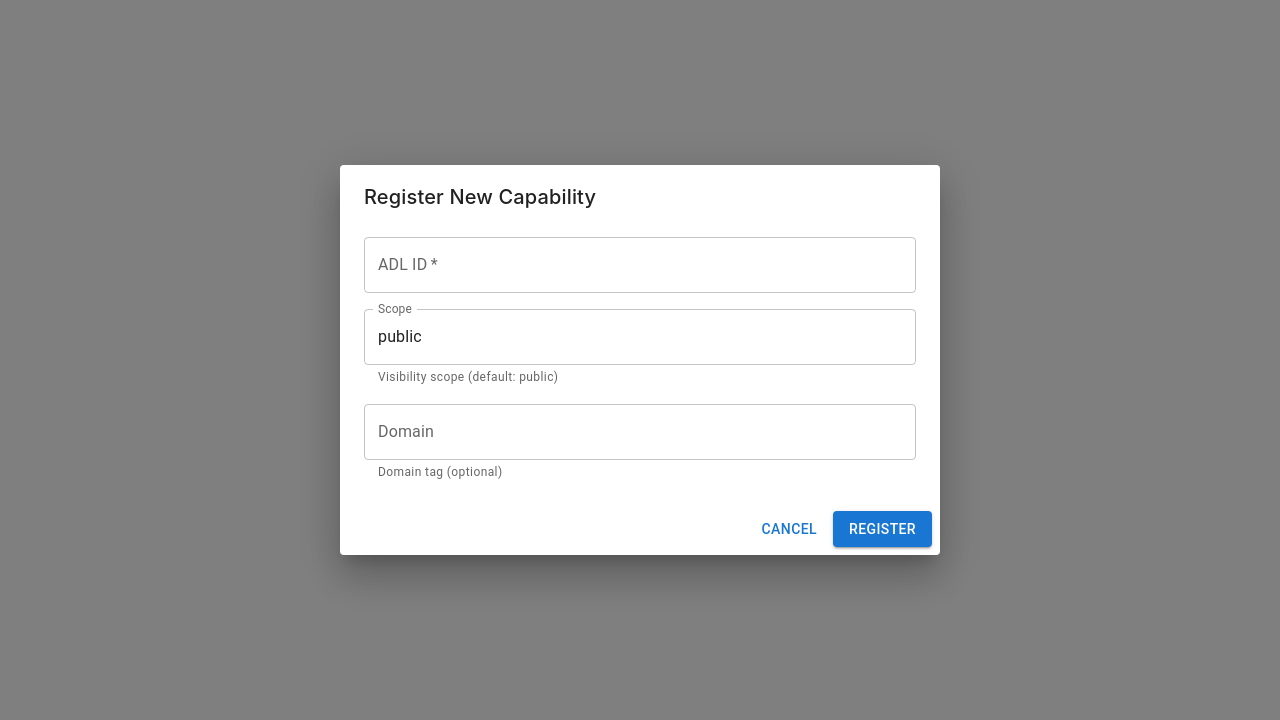
RegisterDialog › handles API error gracefully
Type "test-capability" into the field labelled "ADL ID *" at (640, 265), box [364,237,916,293]
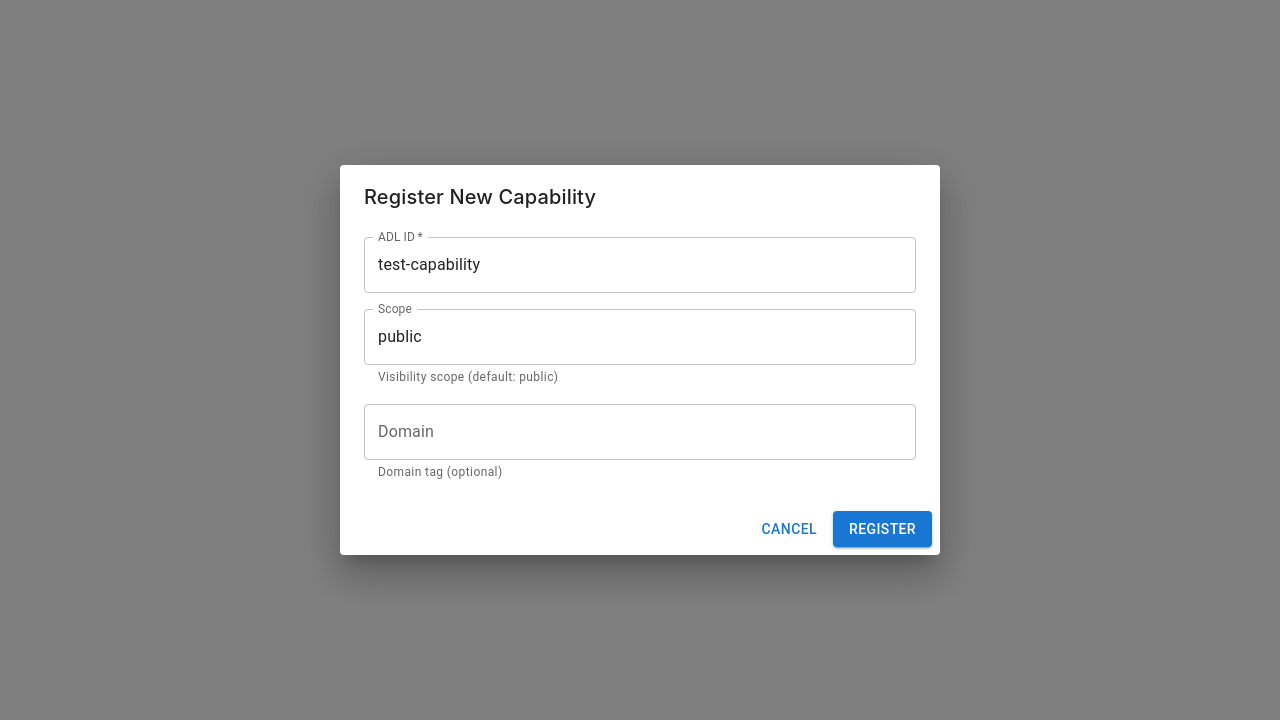
Click the button with test id "register-submit-button" at (882, 529), box [833,511,932,547]
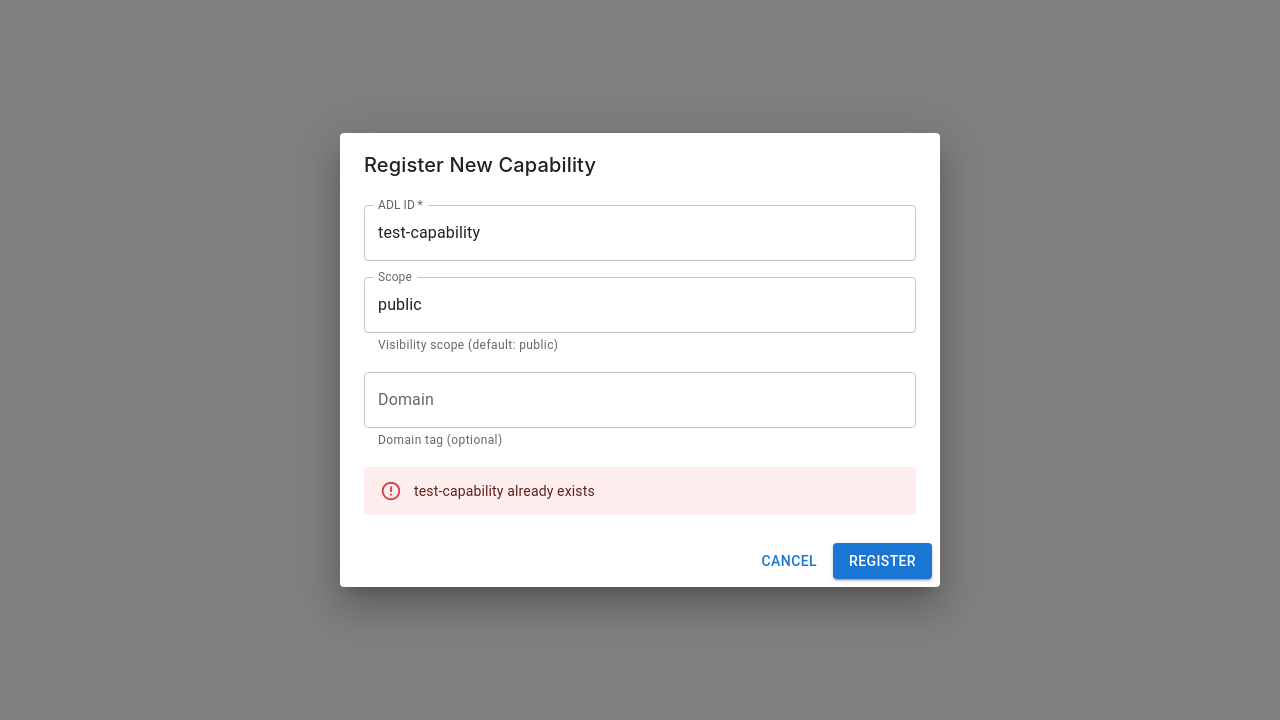
Expected: the text "test-capability already exists" is shown, [414,483,595,499]
